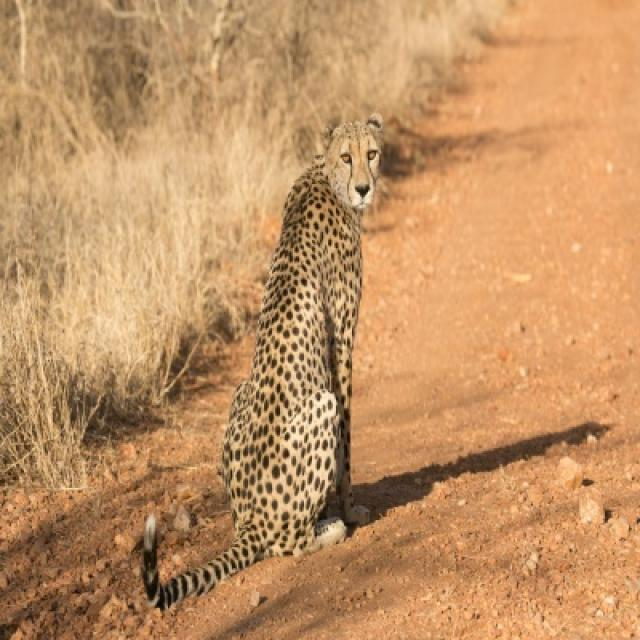Cheetah: (144, 117, 384, 610)
